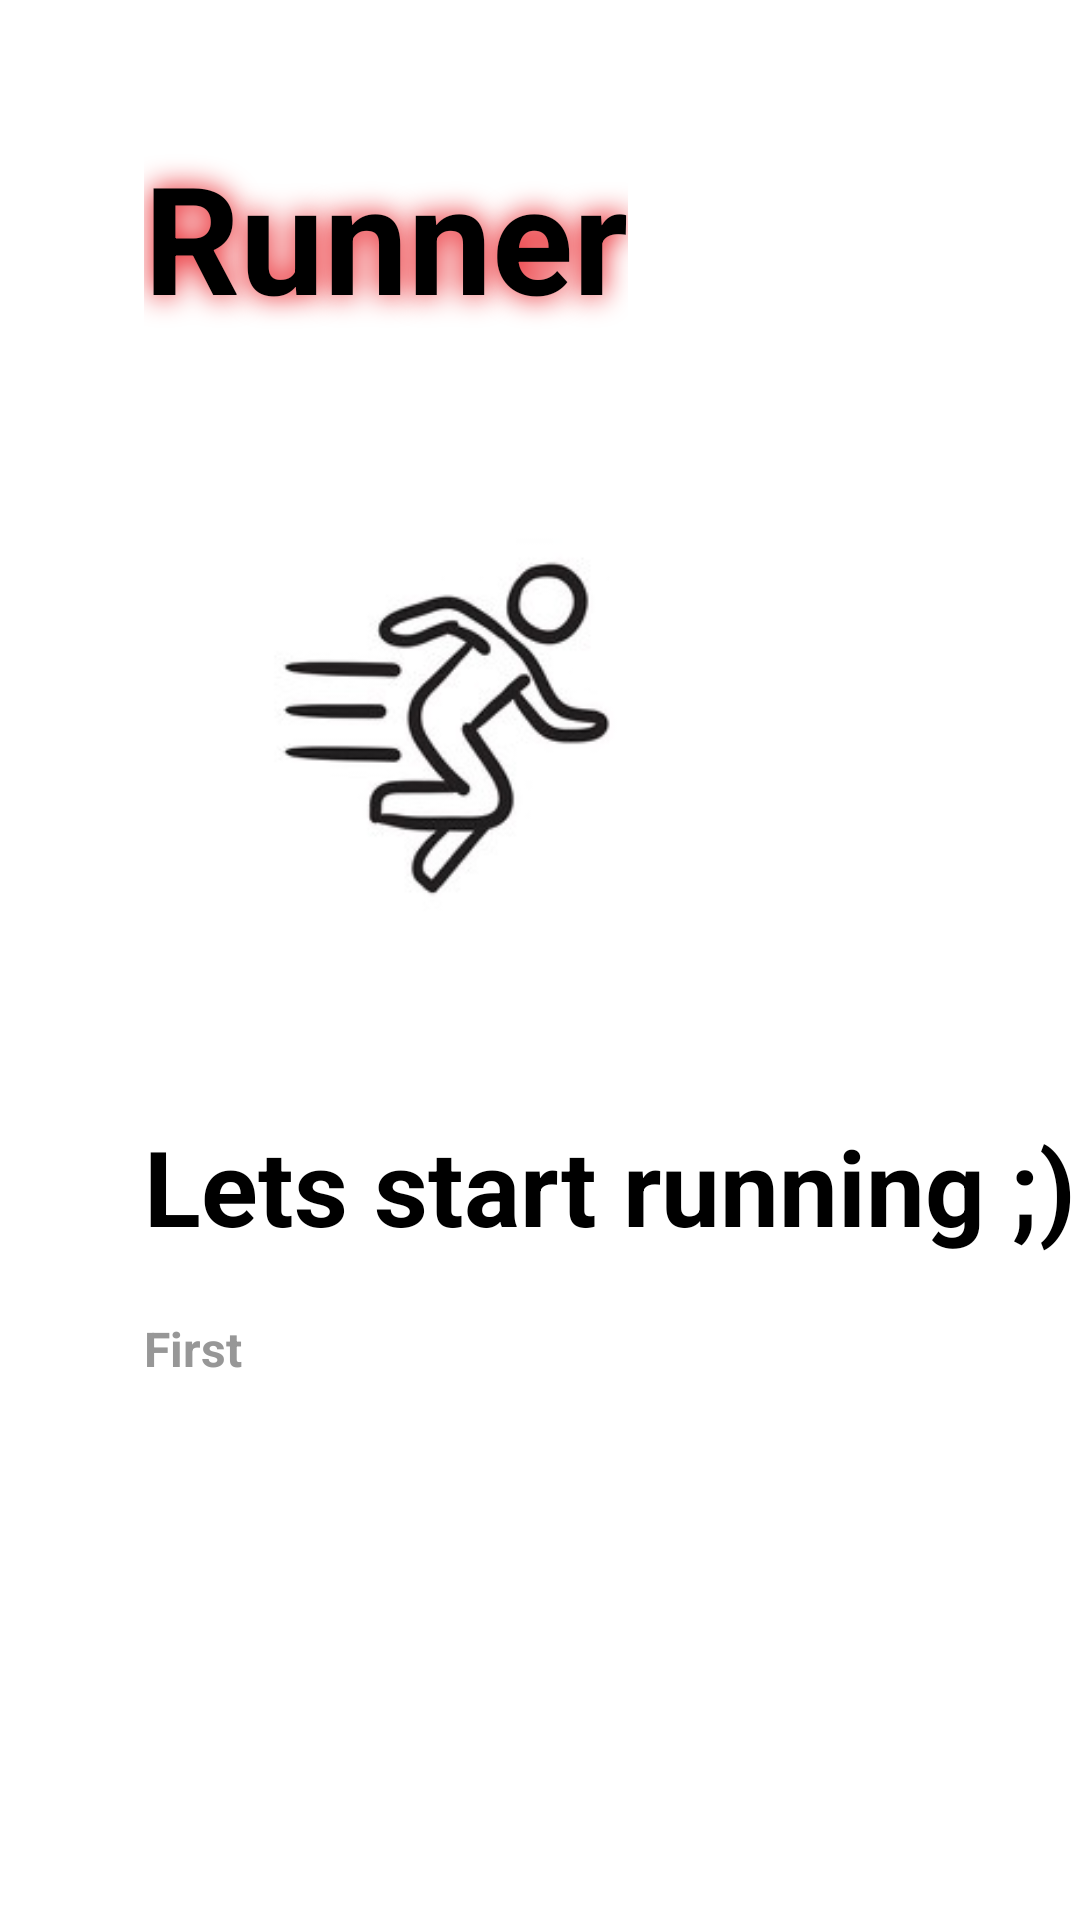

Point at icon controls on the screen. Image size 1080px x 1920px, points as (x=x, y=y).
biegacz: (x=446, y=728)
